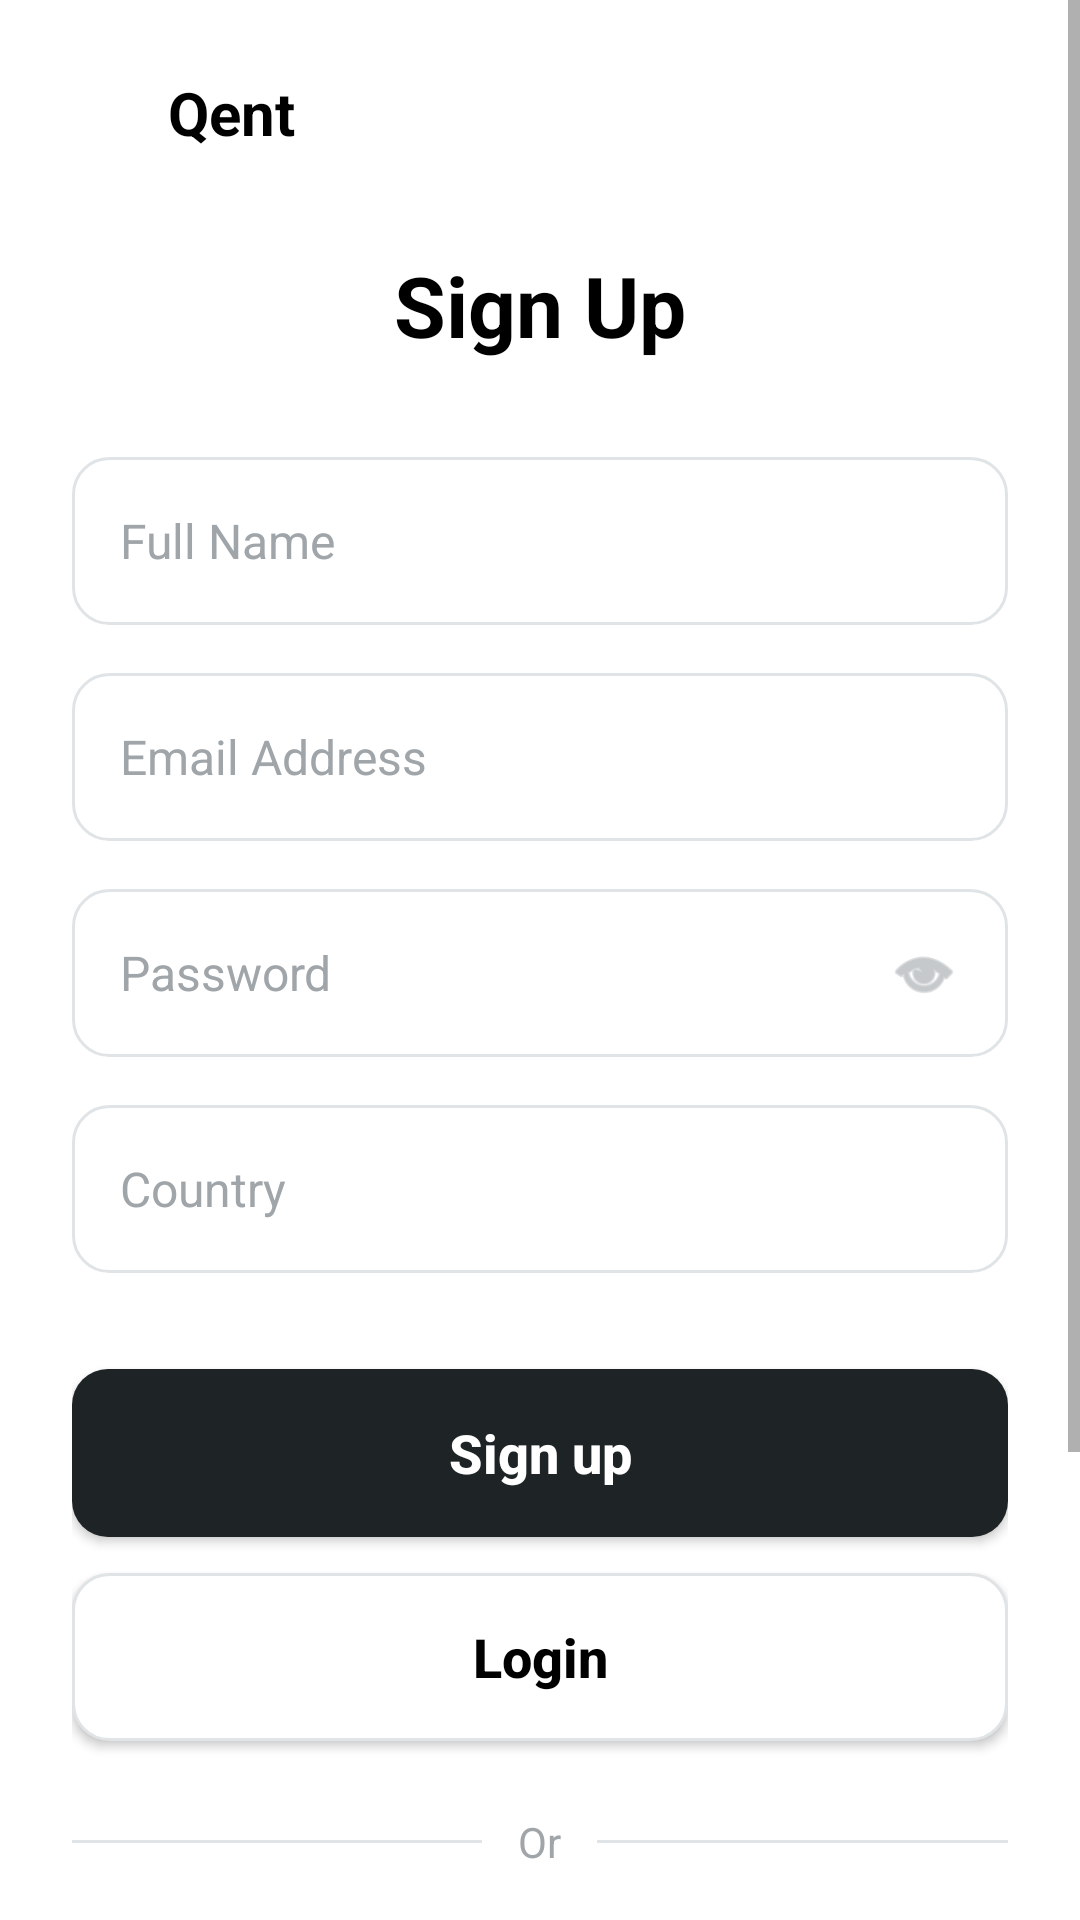

Point at icon controls on the screen. Image size 1080px×1920px, points as (x=x, y=y).
view: (x=924, y=975)
